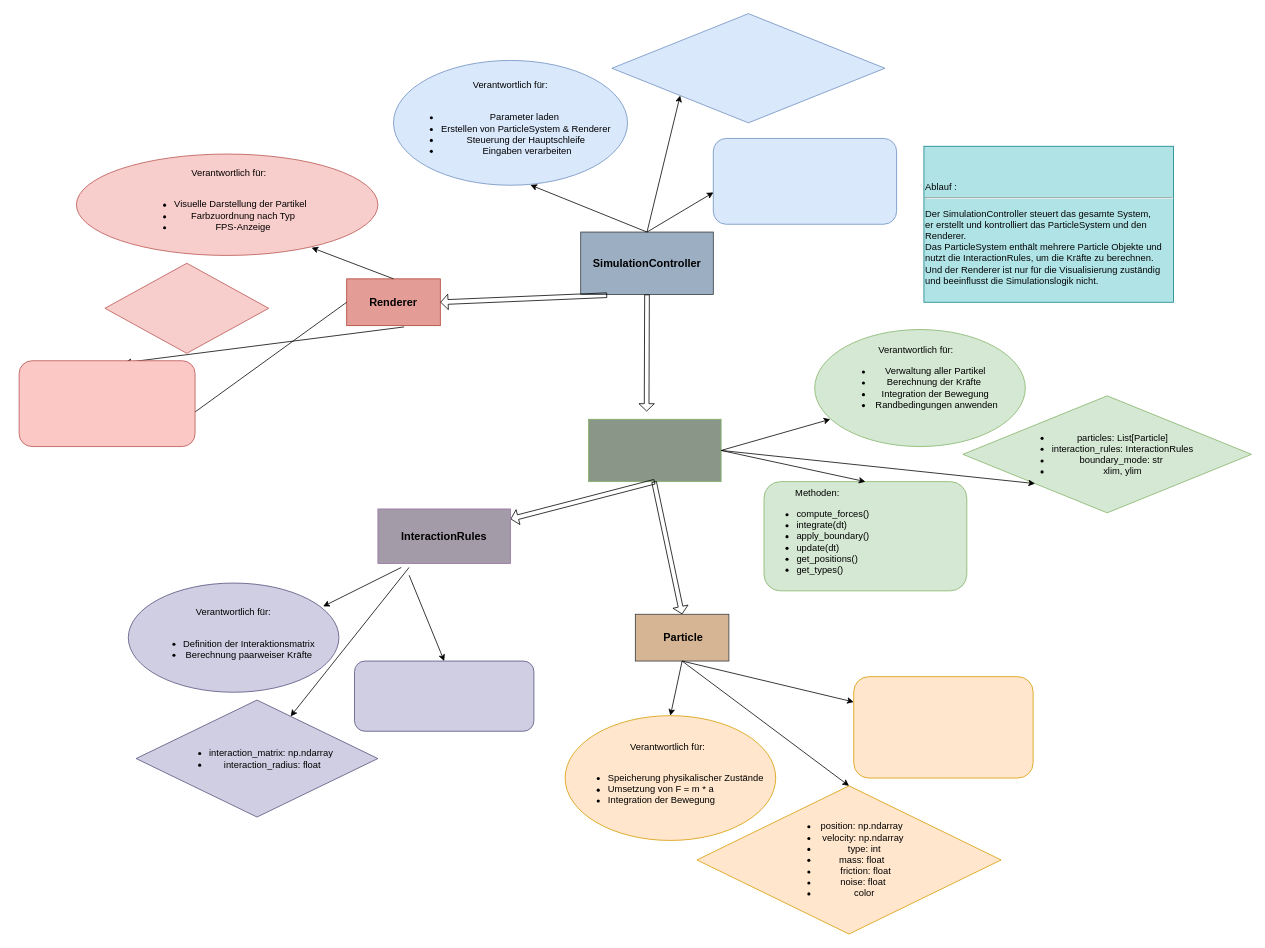
Image size: 1265x948. Some labels were removed from this diagram. Each missing label, with the centre of its shape:
Methoden: apply_force(force) integrate(dt) get_state(): the point at 943,727
Methoden: compute_pairwise_force(p_i, p_j): the point at 444,695
Methoden: draw(positions, types) update_frame() show_fps(): the point at 106,403
Methoden: initialize() handle_input() run(): the point at 805,181
particle_system: ParticleSystem renderer: Renderer running: bool dt: float: the point at 748,68
ParticleSystem: the point at 654,450
screen width, height fps: the point at 186,307
